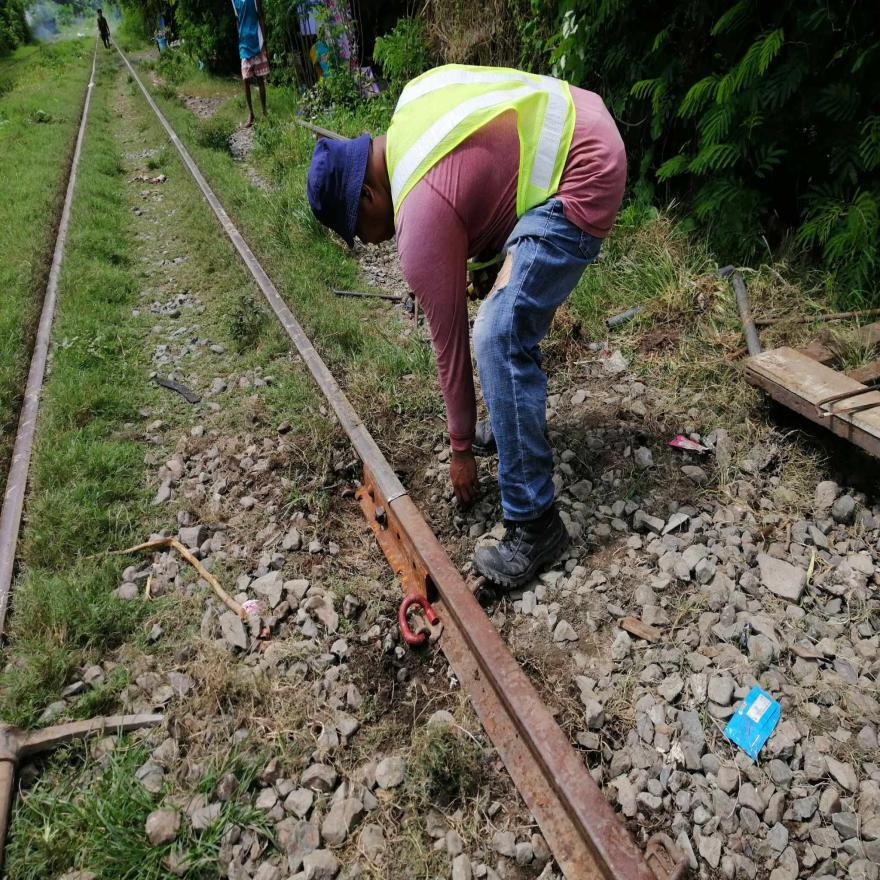railway-gap: (364, 461, 427, 536)
